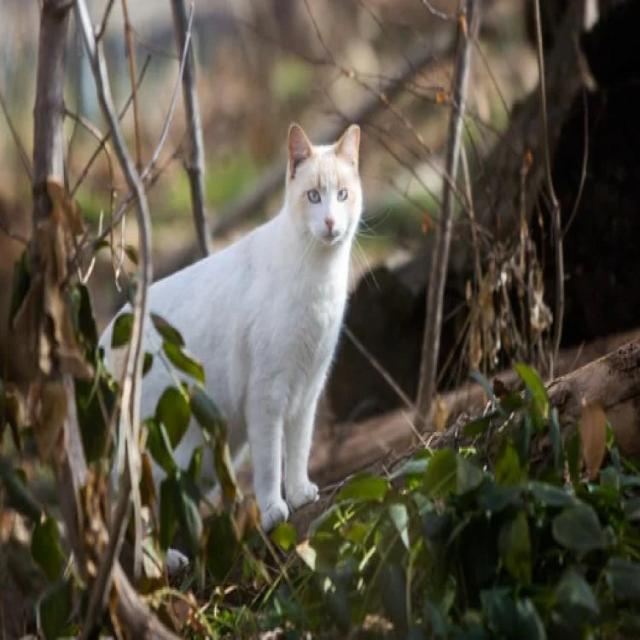cat: (149, 124, 362, 530)
